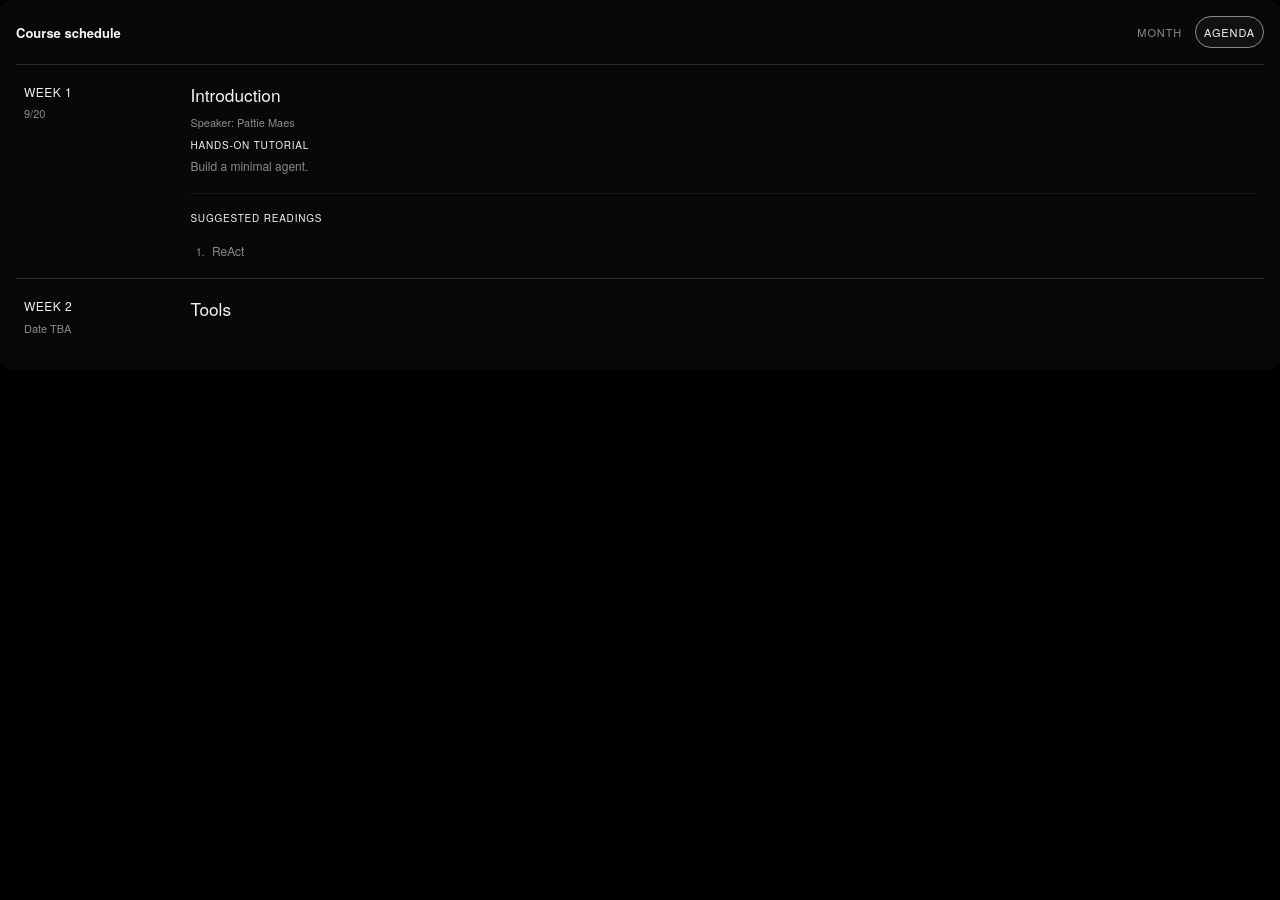
Test case: Calendar › normalizes the course schedule without inventing missing dates
Expected: the text "Introduction" is shown, left=190, top=82, right=280, bottom=107
Expected: the text "Date TBA" is shown, left=24, top=320, right=71, bottom=336
Click the button "Month": click(1160, 32) left=1128, top=16, right=1191, bottom=48
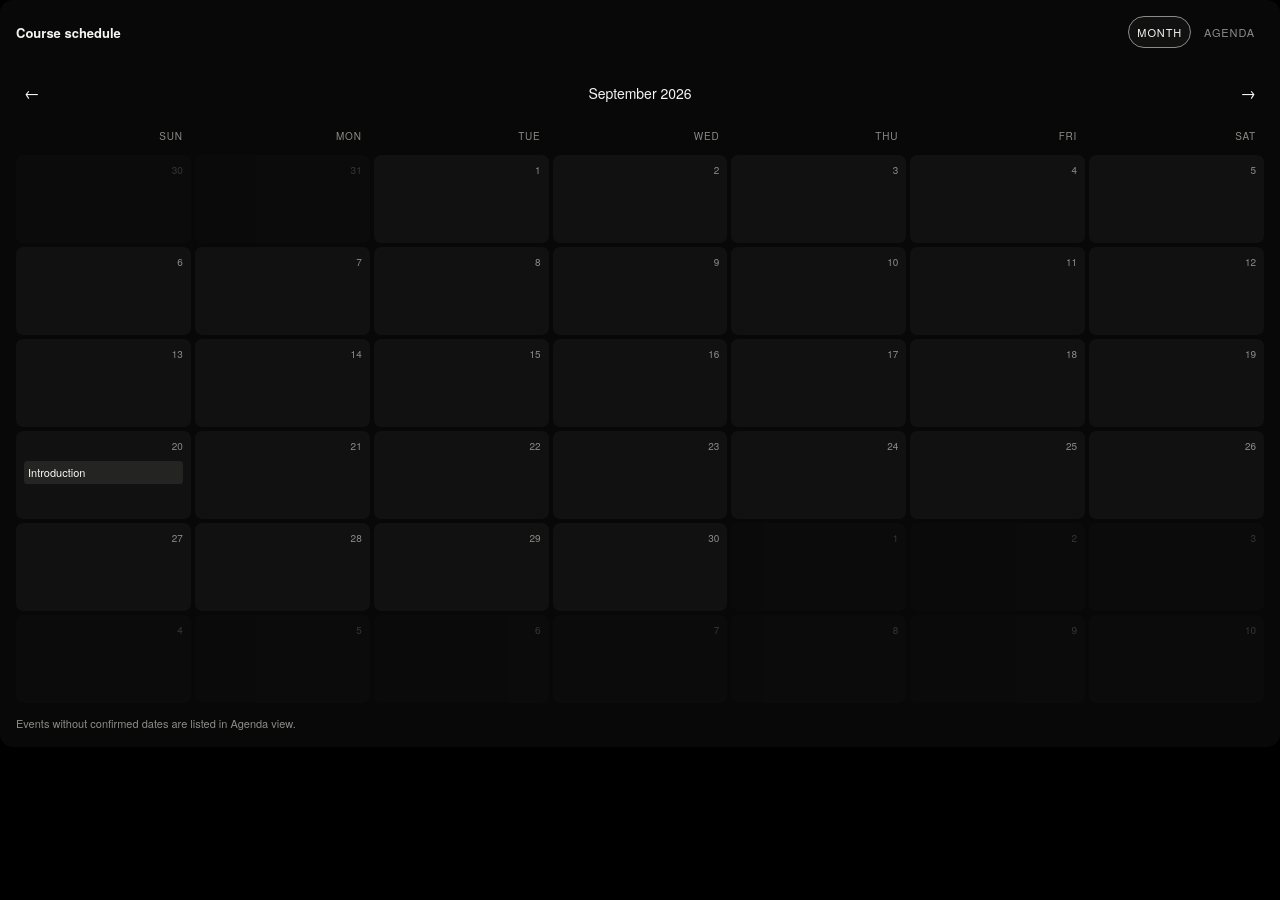
Expected: the button "Introduction" is shown, left=24, top=461, right=183, bottom=484
Now the table named "Month" is shown
Now the text "Events without confirmed dates are listed in Agenda view." is shown, box left=16, top=715, right=296, bottom=731
